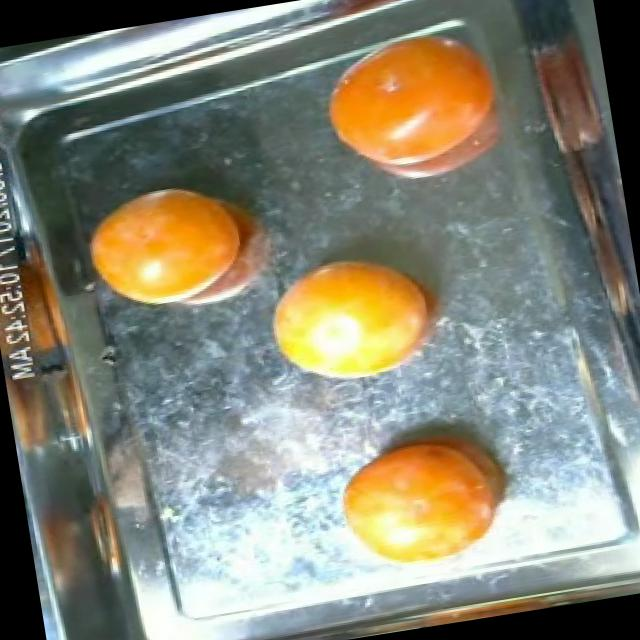Fruit: (298, 4, 536, 208), (313, 402, 541, 590), (246, 232, 460, 408), (68, 160, 282, 330), (512, 25, 618, 173), (72, 486, 142, 588)
